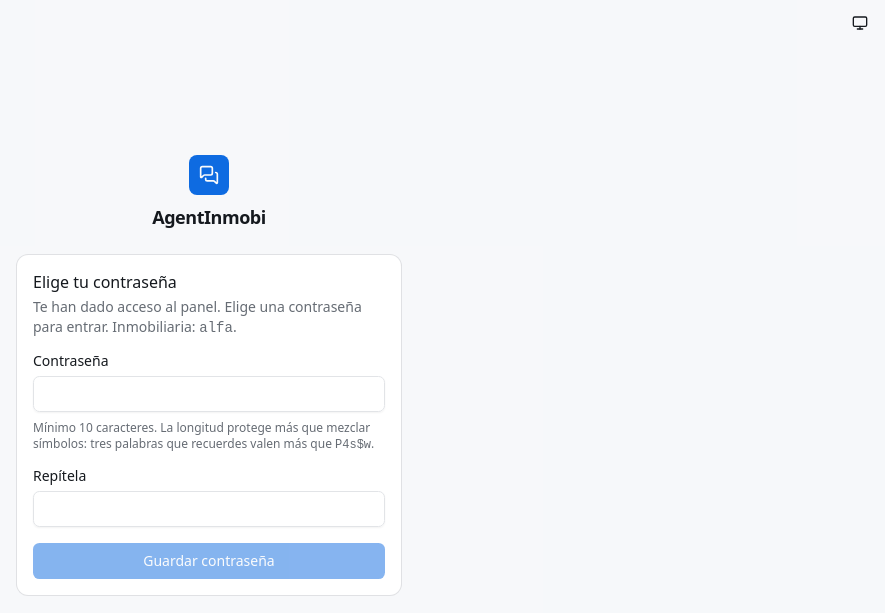
it: Elegir contraseña con un enlace › al terminar NO entra solo: manda al acceso
The image size is (885, 613).
In the password field labelled "Contraseña": {"x": 209, "y": 394} x1=33 y1=376 x2=385 y2=412, type "contrasena-larga-2026"
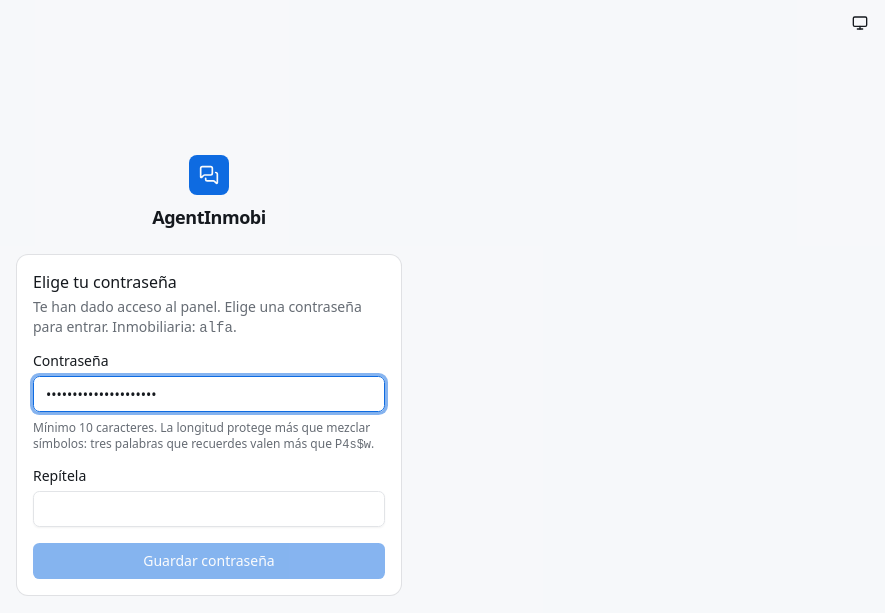
In the password field labelled "Repítela": {"x": 209, "y": 509} x1=33 y1=491 x2=385 y2=527, type "contrasena-larga-2026"
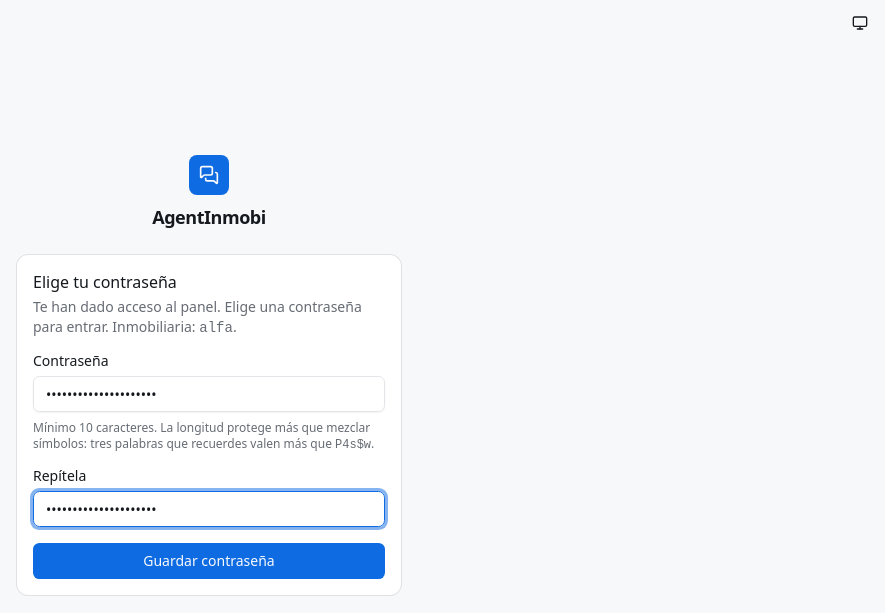
Click the button "Guardar contraseña": {"x": 209, "y": 561} x1=33 y1=543 x2=385 y2=579
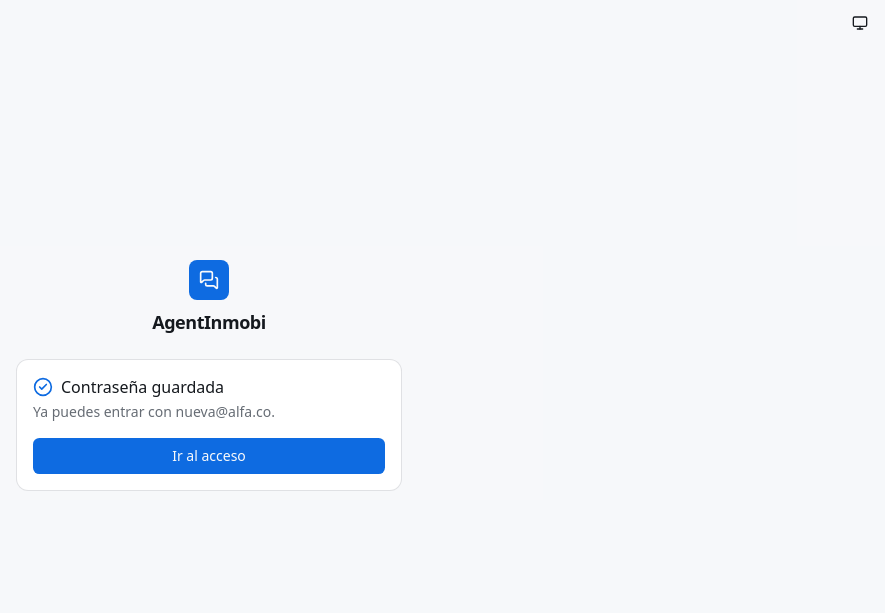
Check: the text "Contraseña guardada" is shown, box x1=33 y1=376 x2=224 y2=398
Check: the button "Ir al acceso" is shown, box x1=33 y1=438 x2=385 y2=474
Check: the text "nueva@alfa.co" is shown, box x1=176 y1=402 x2=271 y2=421
